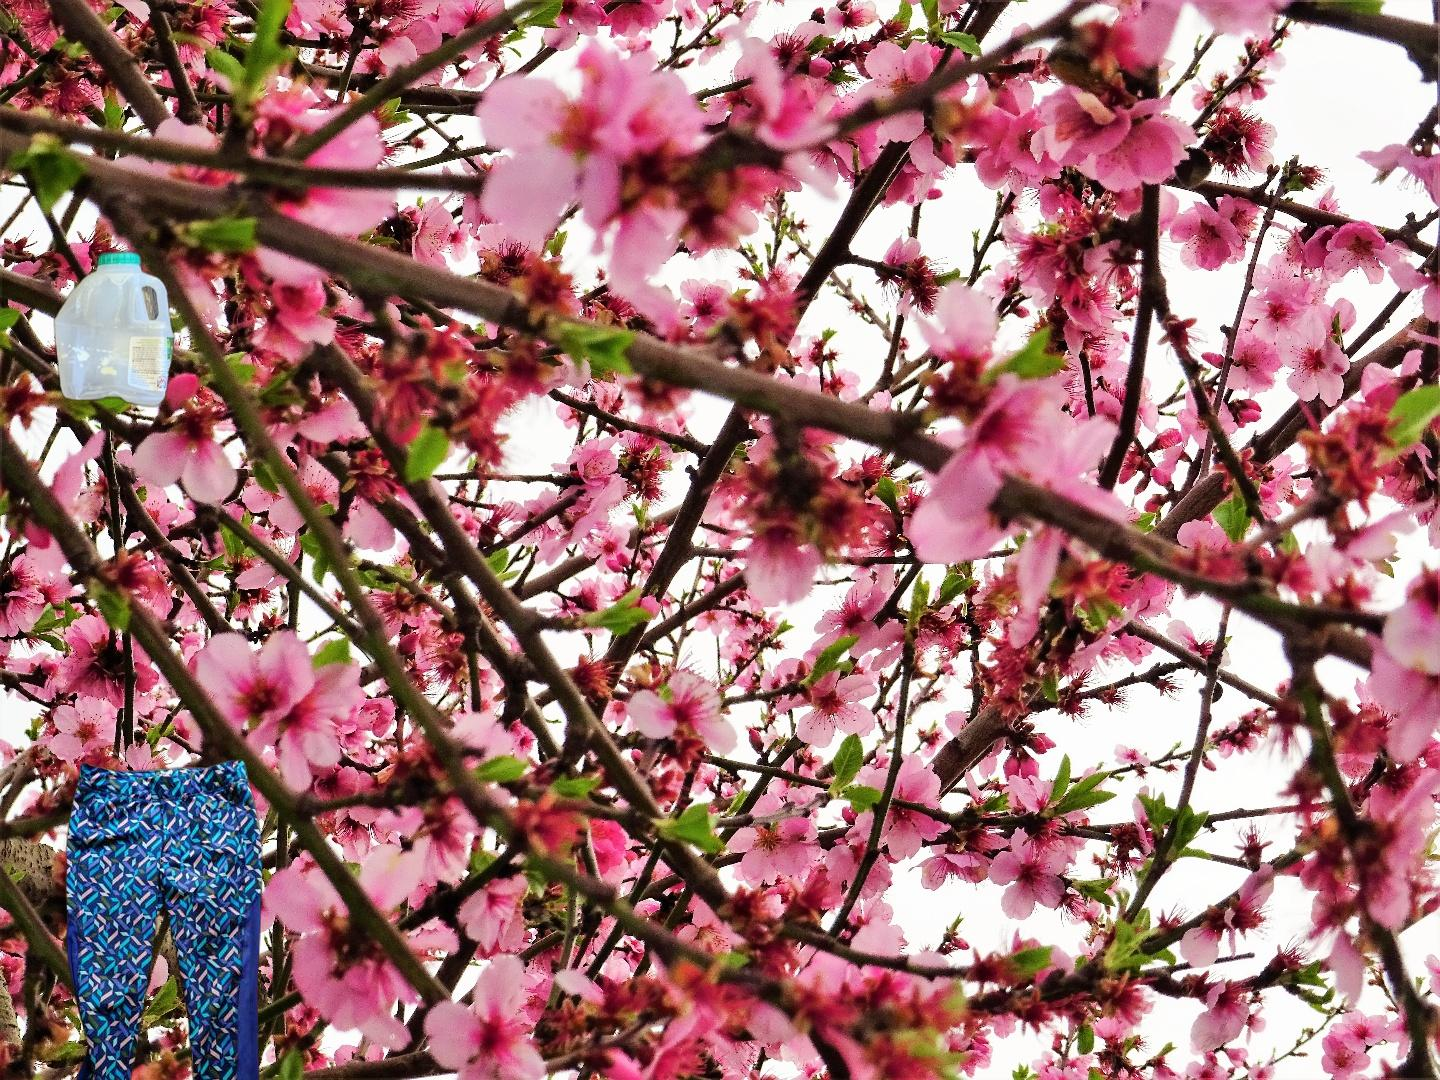clothes: (54, 756, 266, 1080)
plastic-bottles: (50, 244, 179, 412)
